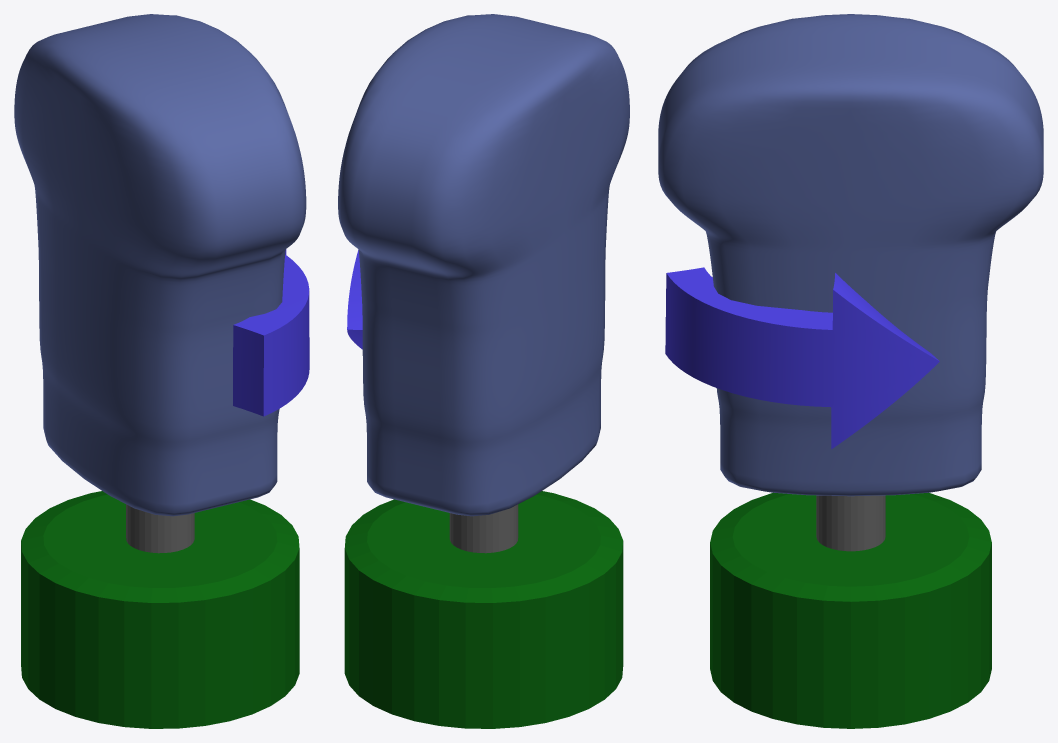
Rendered from Brioche_Bag_Left.fbx.
3 views of the same model, side by side, from view 1: azimuth 30°, elevation 25°; view 2: azimuth 150°, elevation 25°; view 3: azimuth 270°, elevation 25° (orthographic).
Visible parts, largest first — view 1: BriocheBag, Socle, Left_Arrrow, Cylinder; view 2: BriocheBag, Socle, Cylinder, Left_Arrrow; view 3: BriocheBag, Socle, Left_Arrrow, Cylinder.
Part boxes in pixels (x1,y1,x2,y2): BriocheBag: (14, 14, 306, 516); Socle: (21, 491, 299, 728); Left_Arrrow: (233, 249, 309, 416); Cylinder: (126, 504, 194, 553); BriocheBag: (338, 14, 629, 516); Socle: (344, 491, 623, 728); Cylinder: (449, 504, 518, 553); Left_Arrrow: (347, 249, 362, 349); BriocheBag: (658, 14, 1043, 496); Socle: (710, 492, 991, 728); Left_Arrrow: (665, 267, 939, 449); Cylinder: (816, 495, 885, 551).
Bounding box in the file's own units: 316 × 771 × 432.
